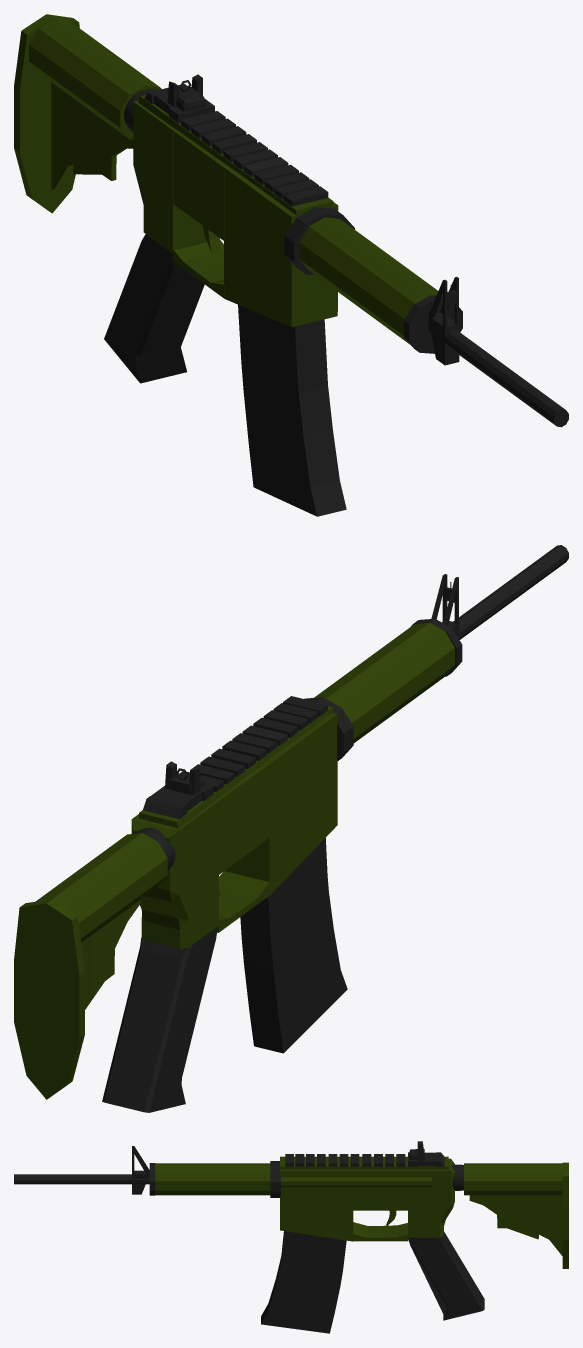
Rendered from AR2TEST.Testfbx2.fbx.
The picture shows the model from 3 angles, top to bottom: view 1: azimuth 30°, elevation 25°; view 2: azimuth 150°, elevation 25°; view 3: azimuth 270°, elevation 25°; orthographic projection. The views are drawn at different scales.
Parts seen in each view (by area): view 1: Cube, Cube.001, Cube.005, Cylinder.001, Cylinder, Cylinder.002, Cube.004, Cube.002, Cube.026, Cylinder.004, Cube.027, Cube.003 (+4 smaller); view 2: Cube, Cube.005, Cylinder.002, Cube.001, Cube.004, Cylinder.001, Cylinder, Cube.002, Cylinder.004, Cube.003, Cube.027, Cube.006 (+1 smaller); view 3: Cube, Cube.001, Cylinder.001, Cube.005, Cylinder, Cube.004, Cube.026, Cube.002, Cylinder.006, Cylinder.004, Cube.027, Cube.006 (+4 smaller).
Part boxes in pixels (box(x1,y1,x2,y2)): Cube: box(238, 305, 346, 516); Cube.001: box(224, 166, 338, 327); Cube.005: box(104, 234, 204, 383); Cylinder.001: box(299, 217, 442, 344); Cylinder: box(29, 18, 161, 139); Cylinder.002: box(14, 14, 79, 213); Cube.004: box(133, 100, 219, 253); Cube.002: box(173, 129, 227, 240); Cube.026: box(51, 82, 101, 189); Cylinder.004: box(428, 326, 568, 427); Cube.027: box(86, 108, 133, 180); Cube.003: box(173, 239, 224, 298); Cube: box(240, 838, 347, 1053); Cube.005: box(102, 926, 217, 1112); Cylinder.002: box(14, 899, 84, 1099); Cube.001: box(225, 713, 337, 894); Cube.004: box(131, 800, 218, 948); Cylinder.001: box(314, 622, 454, 743); Cylinder: box(33, 833, 167, 942); Cube.002: box(215, 763, 269, 874); Cylinder.004: box(453, 545, 568, 639); Cube.003: box(217, 871, 270, 932); Cube.027: box(89, 900, 140, 993); Cube.006: box(139, 706, 333, 828); Cube: box(261, 1231, 346, 1333); Cube.001: box(280, 1169, 353, 1241); Cylinder.001: box(155, 1163, 270, 1195); Cube.005: box(408, 1232, 484, 1320); Cylinder: box(464, 1163, 565, 1195); Cube.004: box(408, 1158, 454, 1237); Cube.026: box(507, 1195, 562, 1255); Cube.002: box(353, 1169, 407, 1210); Cylinder.006: box(281, 1177, 431, 1187); Cylinder.004: box(14, 1174, 149, 1184); Cube.027: box(469, 1195, 524, 1228); Cube.006: box(280, 1156, 448, 1169).
Bounding box in the file's own units: 135 × 680 × 1848.
